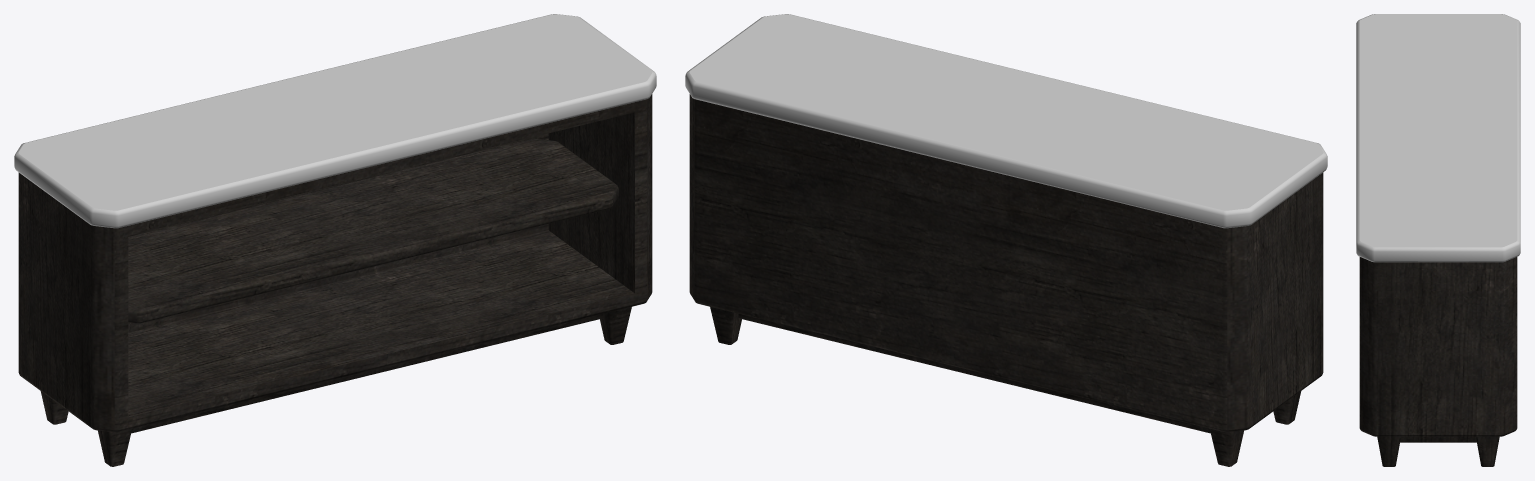
File: wardrobe_8.obj
3 renders of one model, left to right at view 1: azimuth 30°, elevation 25°; view 2: azimuth 150°, elevation 25°; view 3: azimuth 270°, elevation 25°, orthographic. The views are drawn at different scales.
Visible parts, largest first — view 1: wardrobe_8; view 2: wardrobe_8; view 3: wardrobe_8.
Boxes of the visible parts, x1,y1,x2,y2 form: wardrobe_8: (14,14,656,466); wardrobe_8: (685,14,1327,466); wardrobe_8: (1356,14,1520,466).
Bounding box in the file's own units: 1.7 × 0.77 × 0.5.
